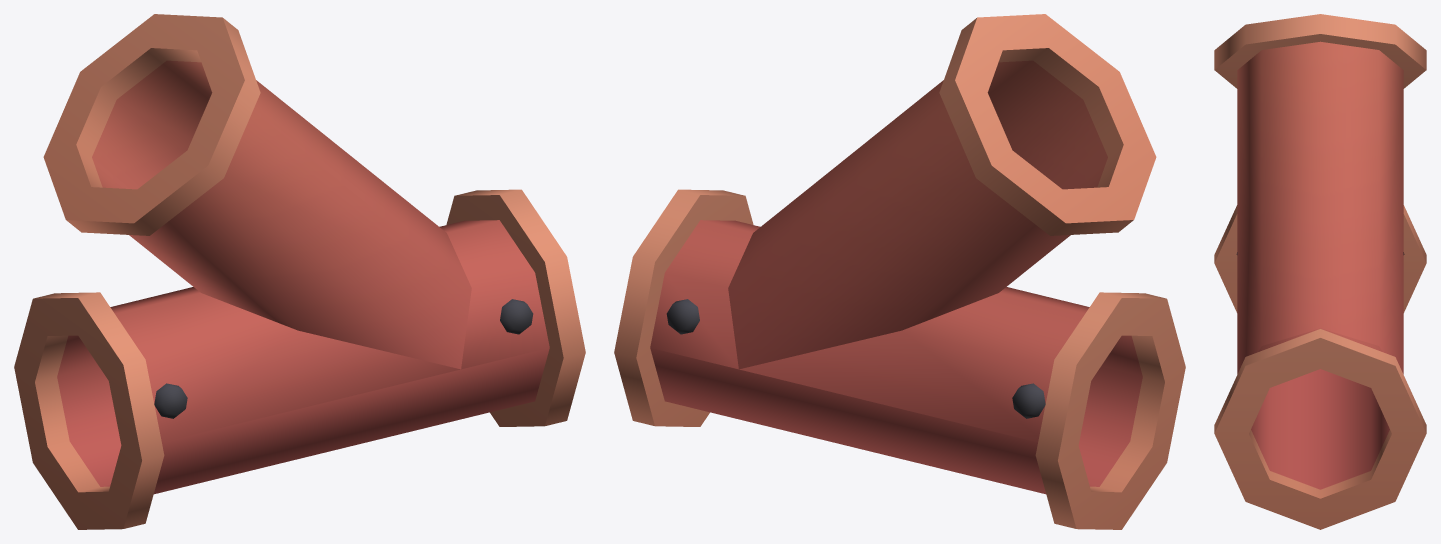
Rendered from pipe-large-junction.obj.
The picture shows the model from 3 angles, left to right: view 1: azimuth 30°, elevation 25°; view 2: azimuth 150°, elevation 25°; view 3: azimuth 270°, elevation 25°; orthographic projection. The views are drawn at different scales.
Visible parts, largest first — view 1: pipe-large-junction; view 2: pipe-large-junction; view 3: pipe-large-junction.
Part boxes in pixels (bbox=[...]): pipe-large-junction: bbox=[14, 14, 585, 529]; pipe-large-junction: bbox=[614, 14, 1185, 529]; pipe-large-junction: bbox=[1214, 14, 1426, 529].
Size of the model in its own units: 2.06 by 2.06 by 1.
